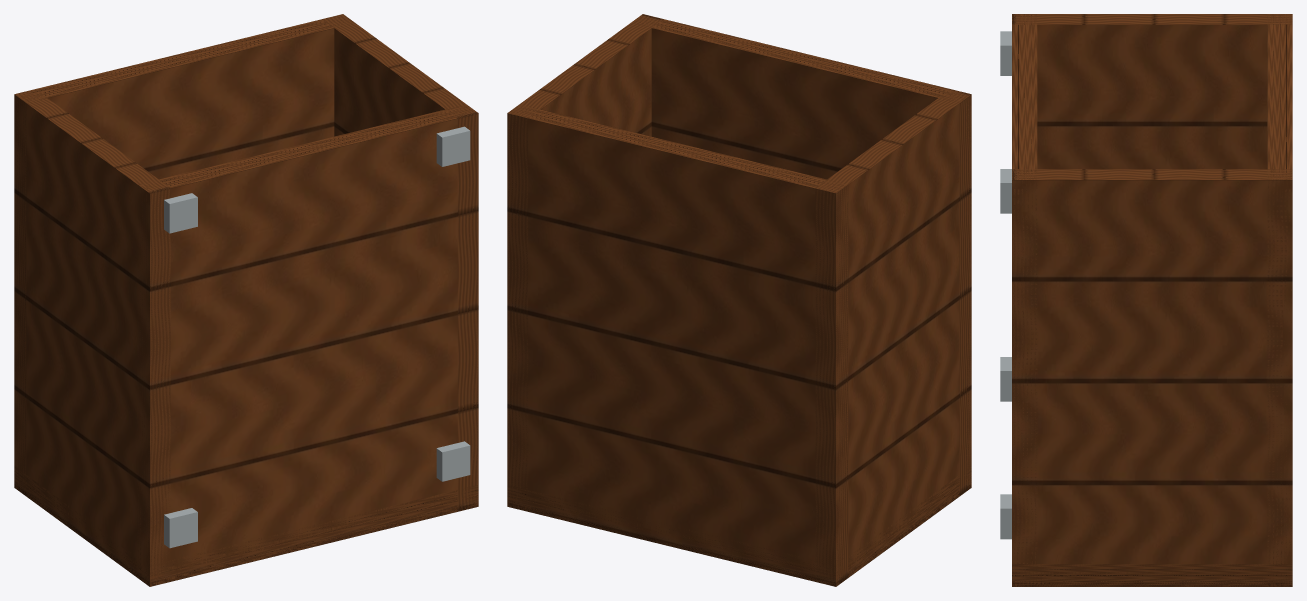
Rendered from roadside-survival-stops-spill-sorbent-bin-52b57bac__23539.glb.
The picture shows the model from 3 angles, left to right: view 1: azimuth 30°, elevation 25°; view 2: azimuth 150°, elevation 25°; view 3: azimuth 270°, elevation 25°; orthographic projection. The views are drawn at different scales.
Parts seen in each view (by area): view 1: spill-sorbent-bin; view 2: spill-sorbent-bin; view 3: spill-sorbent-bin.
Part boxes in pixels (x1,y1,x2,y2): spill-sorbent-bin: (14,14,478,586); spill-sorbent-bin: (507,14,971,586); spill-sorbent-bin: (1000,14,1292,586).
Size of the model in its own units: 0.7 by 0.8 by 0.521.
Materials: 2 (1 with a texture image).
